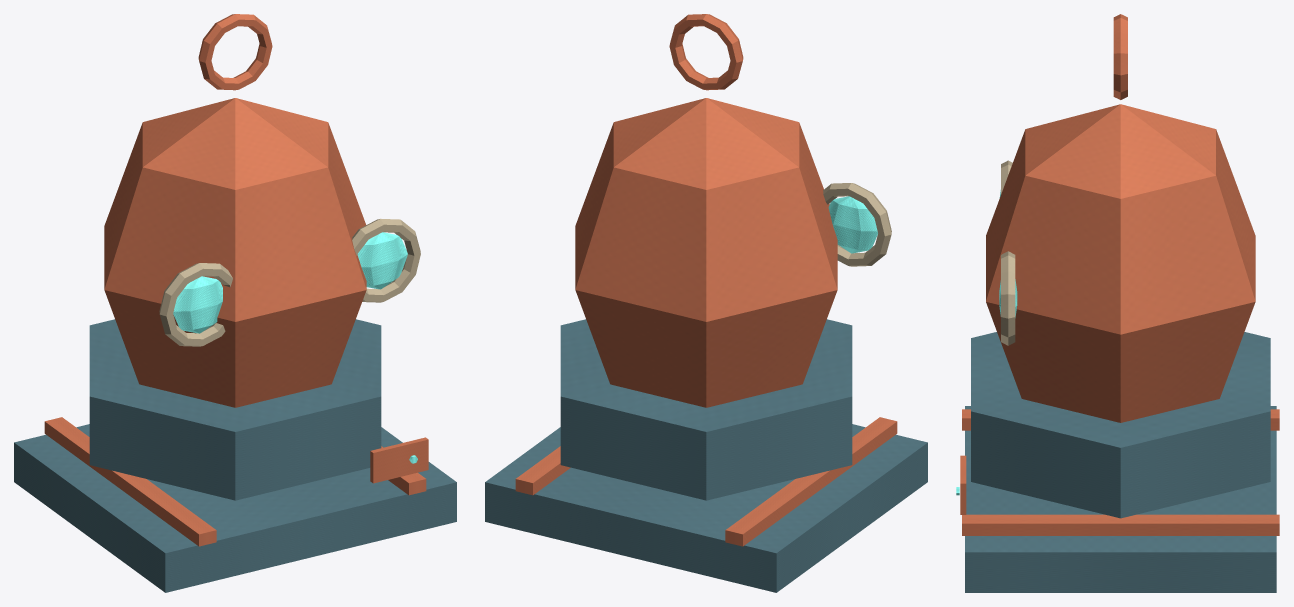
Rendered from atlas100-s046-a01.lod1.glb.
3 views of the same model, side by side, from view 1: azimuth 30°, elevation 25°; view 2: azimuth 150°, elevation 25°; view 3: azimuth 270°, elevation 25° (orthographic). The views are drawn at different scales.
Visible parts, largest first — view 1: atlas100-s046-a01:part-003, atlas100-s046-a01:part-004, atlas100-s046-a01:part-000, atlas100-s046-a01:part-001, atlas100-s046-a01:part-009, atlas100-s046-a01:part-005, atlas100-s046-a01:part-007, atlas100-s046-a01:part-006, atlas100-s046-a01:part-008, atlas100-s046-a01:part-010, atlas100-s046-a01:part-002; view 2: atlas100-s046-a01:part-003, atlas100-s046-a01:part-004, atlas100-s046-a01:part-000, atlas100-s046-a01:part-001, atlas100-s046-a01:part-009, atlas100-s046-a01:part-005, atlas100-s046-a01:part-006, atlas100-s046-a01:part-002; view 3: atlas100-s046-a01:part-003, atlas100-s046-a01:part-004, atlas100-s046-a01:part-000, atlas100-s046-a01:part-002, atlas100-s046-a01:part-007, atlas100-s046-a01:part-009.
Part boxes in pixels (x1,y1,x2,y2): atlas100-s046-a01:part-003: [104, 98, 366, 407]; atlas100-s046-a01:part-004: [89, 319, 381, 500]; atlas100-s046-a01:part-000: [14, 424, 456, 592]; atlas100-s046-a01:part-001: [44, 417, 216, 546]; atlas100-s046-a01:part-009: [198, 14, 272, 90]; atlas100-s046-a01:part-005: [159, 263, 232, 346]; atlas100-s046-a01:part-007: [352, 218, 420, 302]; atlas100-s046-a01:part-006: [173, 276, 222, 333]; atlas100-s046-a01:part-008: [357, 232, 407, 289]; atlas100-s046-a01:part-010: [370, 437, 428, 483]; atlas100-s046-a01:part-002: [381, 446, 426, 495]; atlas100-s046-a01:part-003: [575, 98, 837, 407]; atlas100-s046-a01:part-004: [560, 319, 852, 500]; atlas100-s046-a01:part-000: [485, 424, 927, 592]; atlas100-s046-a01:part-001: [725, 417, 897, 546]; atlas100-s046-a01:part-009: [669, 14, 743, 90]; atlas100-s046-a01:part-005: [823, 183, 891, 266]; atlas100-s046-a01:part-006: [828, 196, 877, 253]; atlas100-s046-a01:part-002: [515, 446, 570, 495]; atlas100-s046-a01:part-003: [986, 104, 1255, 422]; atlas100-s046-a01:part-004: [971, 332, 1270, 518]; atlas100-s046-a01:part-000: [965, 406, 1276, 592]; atlas100-s046-a01:part-002: [962, 514, 1279, 535]; atlas100-s046-a01:part-007: [1001, 251, 1015, 345]; atlas100-s046-a01:part-009: [1113, 14, 1127, 99].
Bounding box in the file's own units: 2 × 3.2 × 1.87.
Materials: 4 (4 with a texture image).
